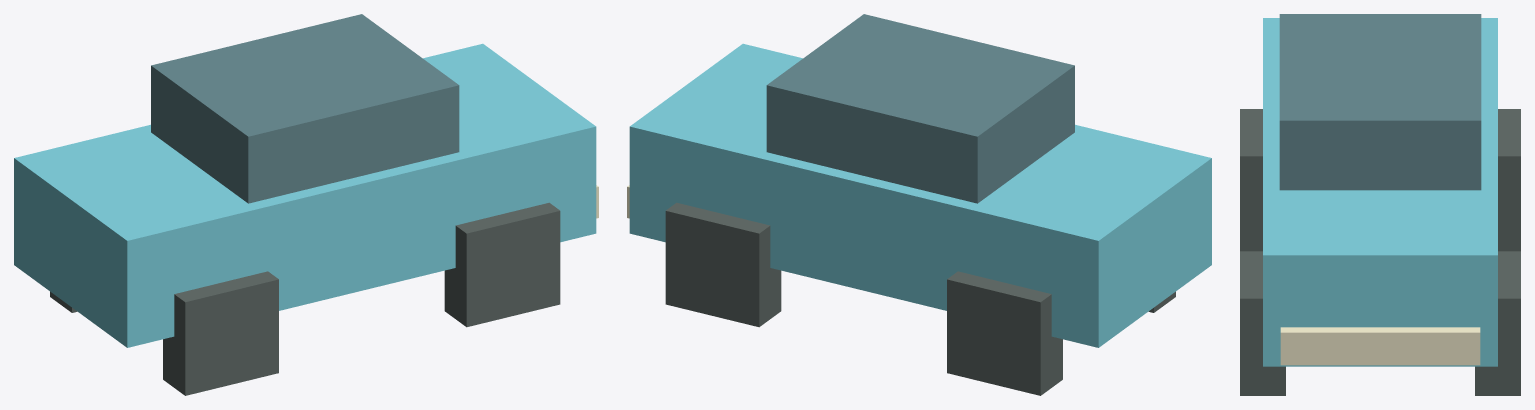
The model's file is car.gltf.
3 views of the same model, side by side, from view 1: azimuth 30°, elevation 25°; view 2: azimuth 150°, elevation 25°; view 3: azimuth 270°, elevation 25° (orthographic). The views are drawn at different scales.
Size of the model in its own units: 5.63 by 2.52 by 2.75.
